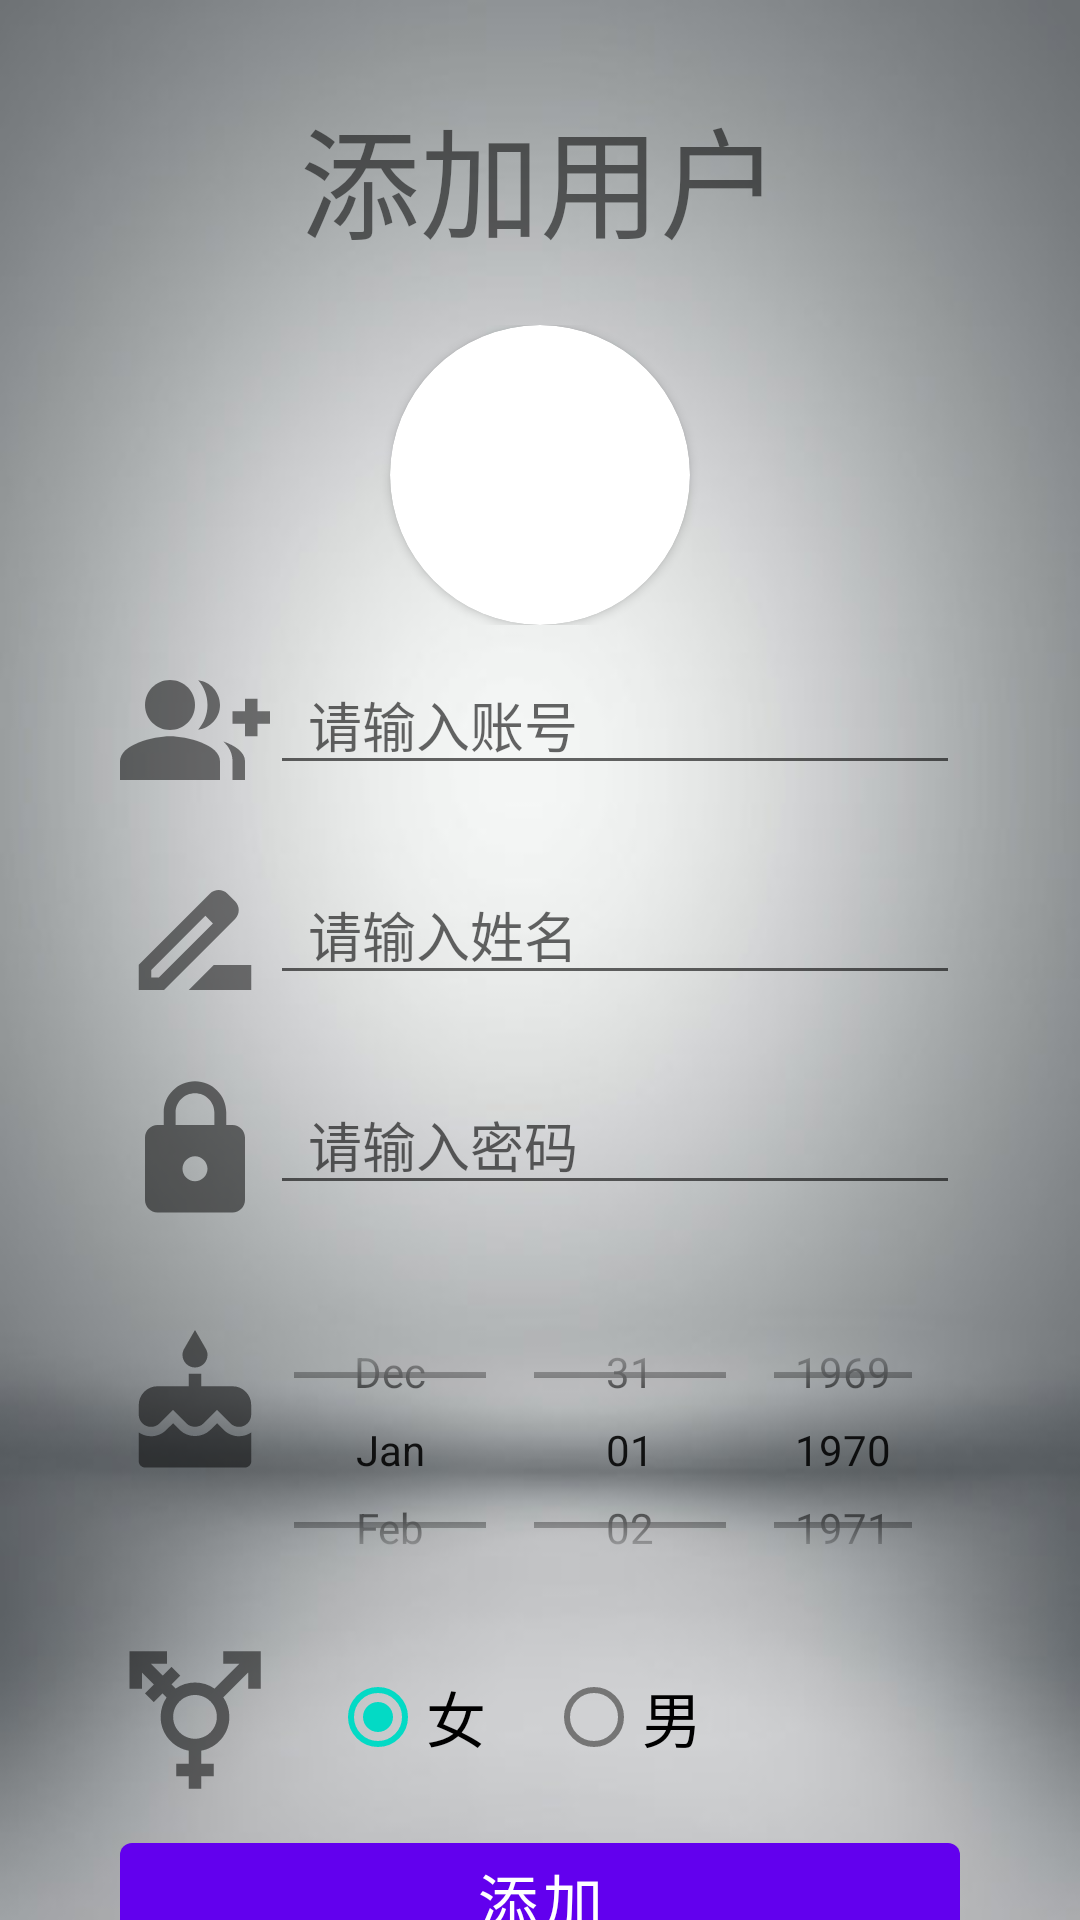

Screen size 1080*1920. Icon name, then its center in pixels as [x,y]:
birthdate: [195,1405]
password: [195,1147]
sex: [195,1720]
username: [195,730]
